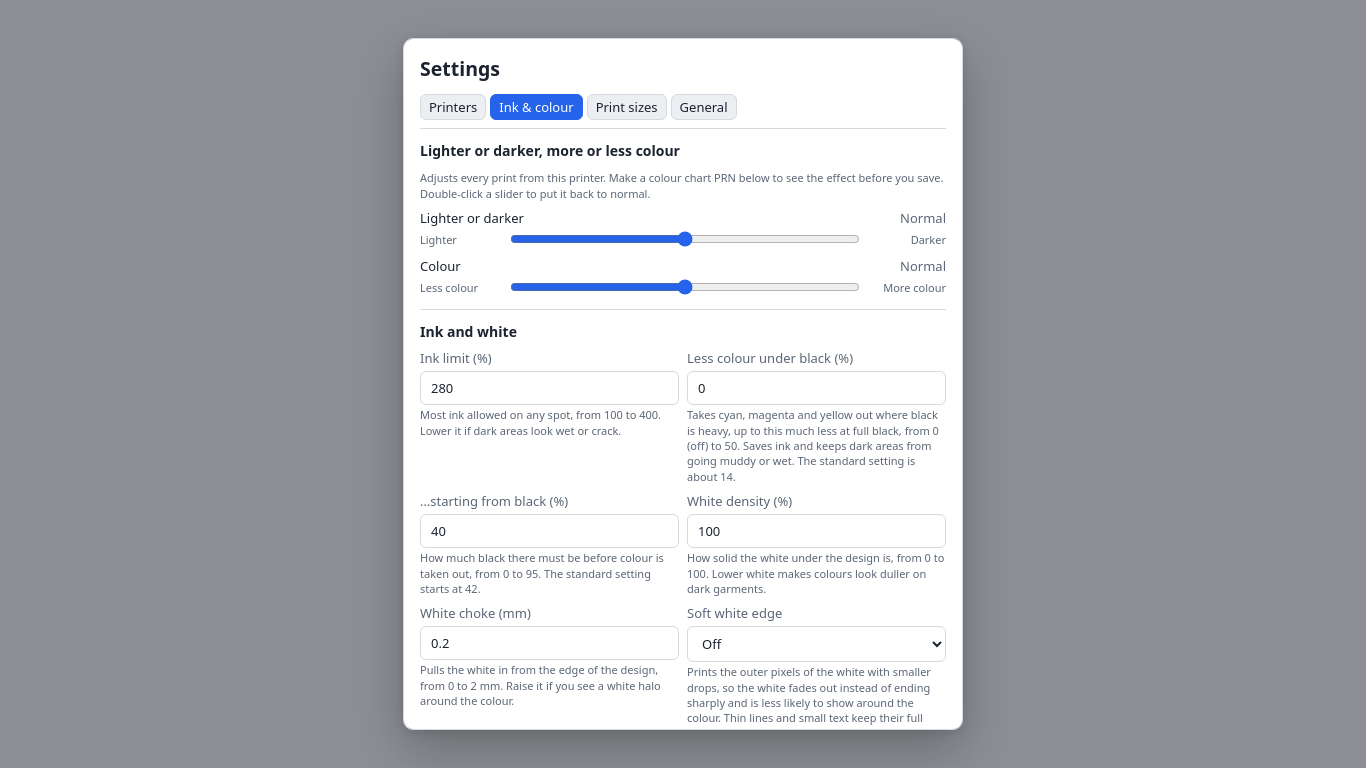
it: Settings › Ink & colour › has lighter/darker and colour sliders that save and feed the test chart
This screenshot has width=1366, height=768.
Expected: the text "Normal" is shown 2 times, x1=900 y1=209 x2=946 y2=227; x1=900 y1=257 x2=946 y2=275
Set the slider named "Lighter or darker" to "30": (735, 239) x1=510 y1=231 x2=860 y2=247
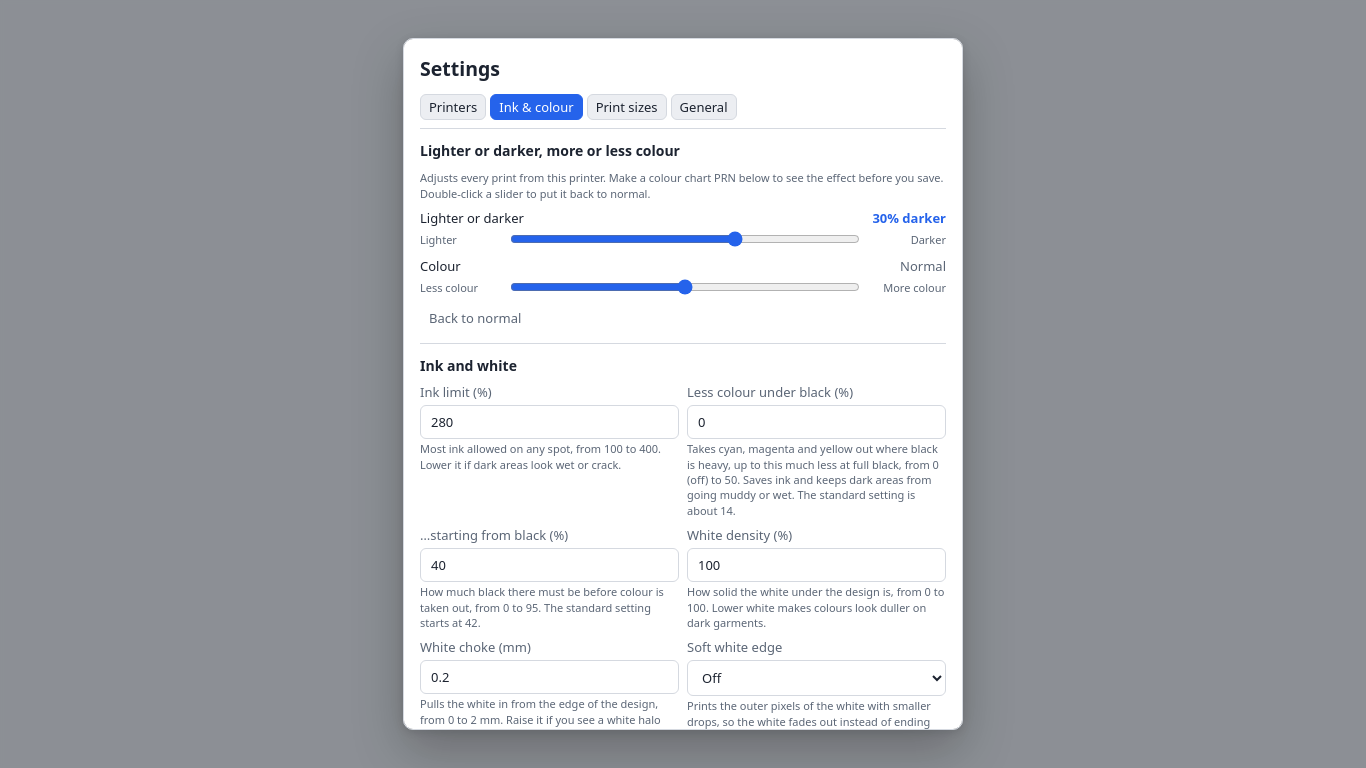
Set the slider named "Colour" to "120": (752, 287) x1=510 y1=279 x2=860 y2=295
(page scrolled)
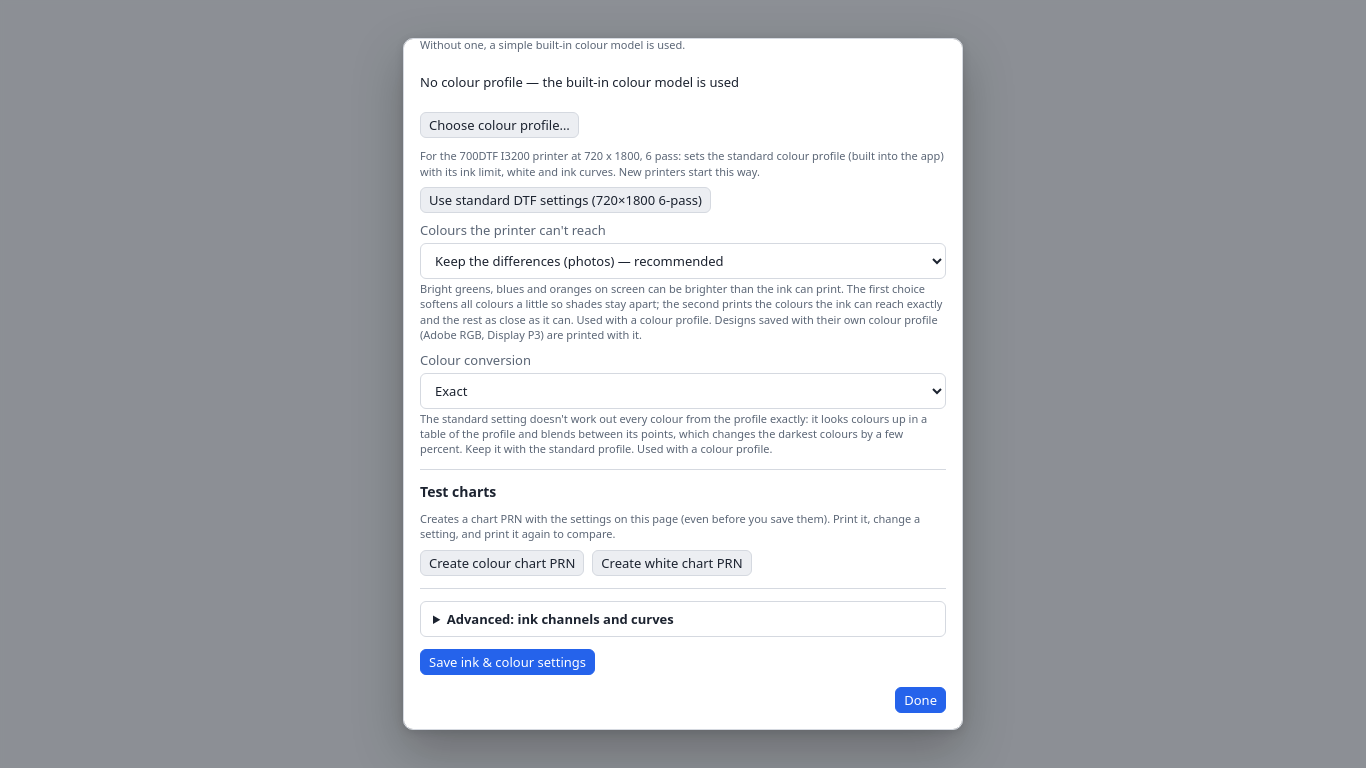
Click the button "Create colour chart PRN": (502, 562) x1=420 y1=550 x2=584 y2=576
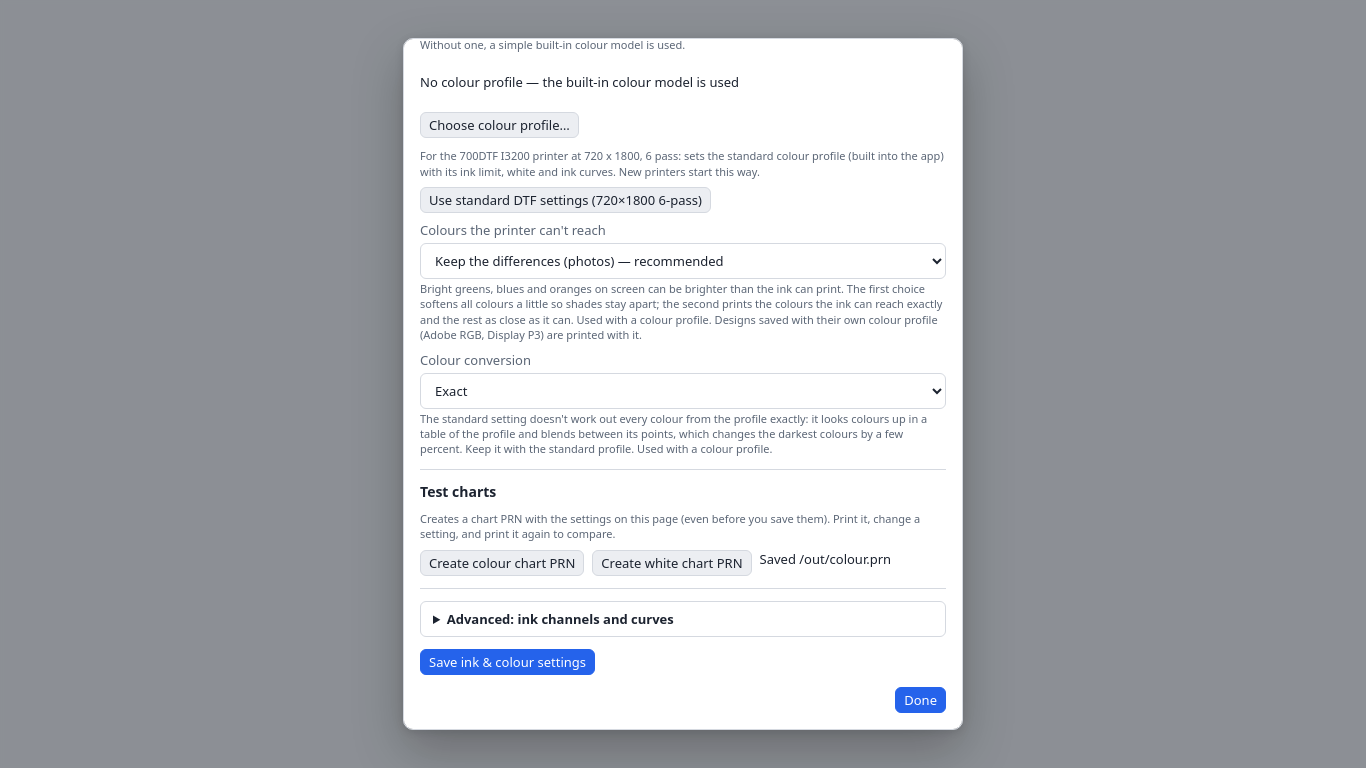
Click the button "Save ink & colour settings": (508, 662) x1=420 y1=648 x2=595 y2=674
(page scrolled)
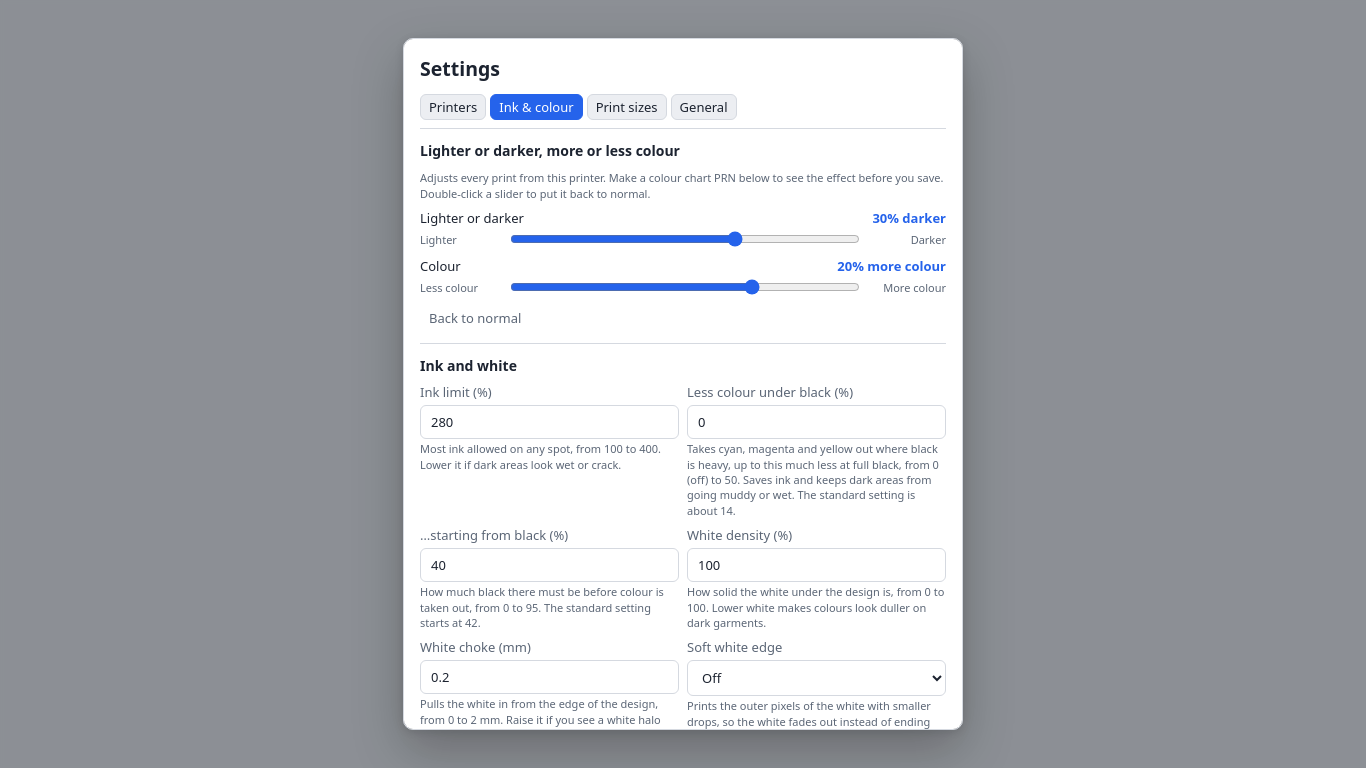
Click the button "Back to normal": (475, 318) x1=420 y1=305 x2=530 y2=331
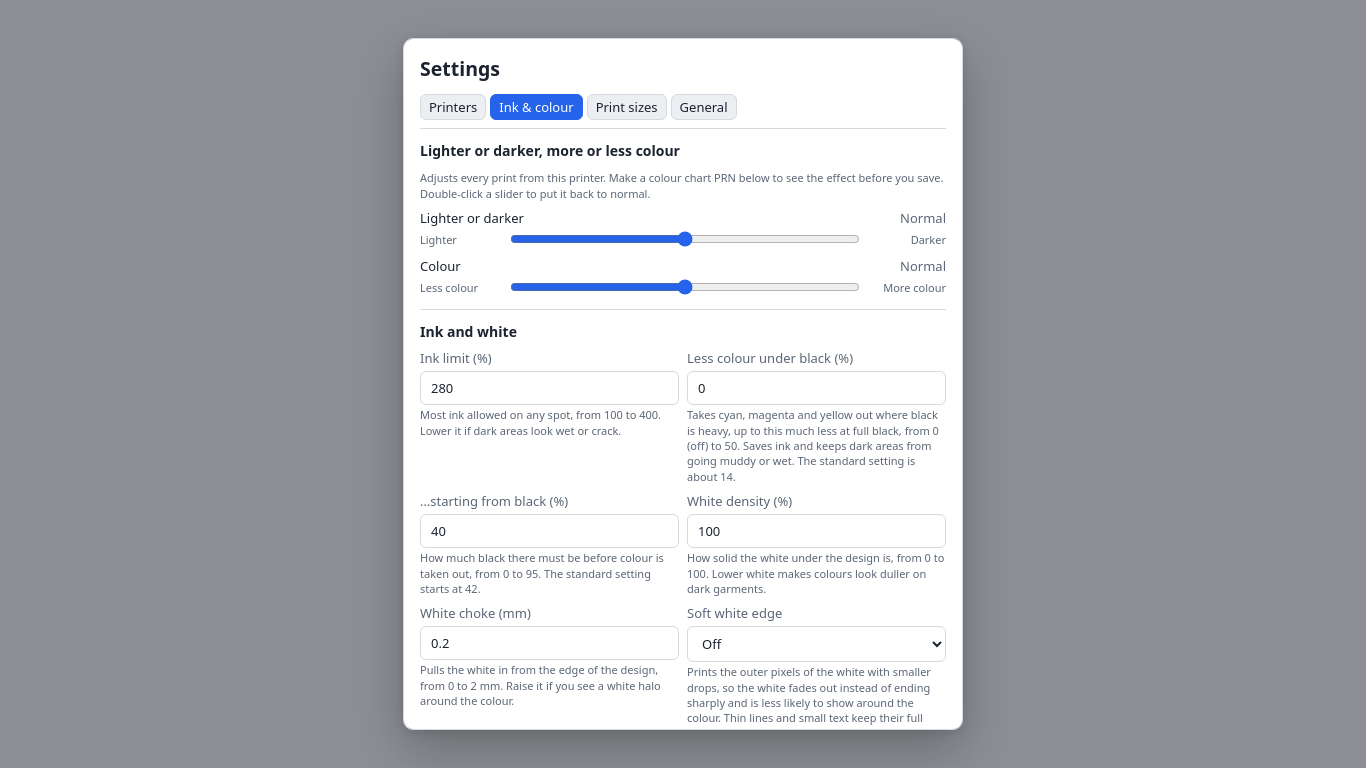
Now the text "Normal" is shown 2 times, box x1=900 y1=209 x2=946 y2=227; x1=900 y1=257 x2=946 y2=275
